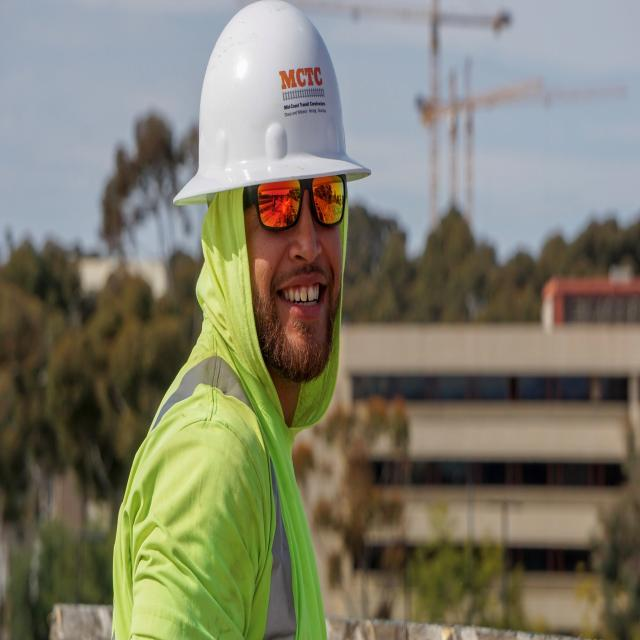Hard Hat: (185, 0, 374, 201)
Reflective Vest: (109, 391, 350, 640)
Safety Glasses: (245, 170, 355, 238)
